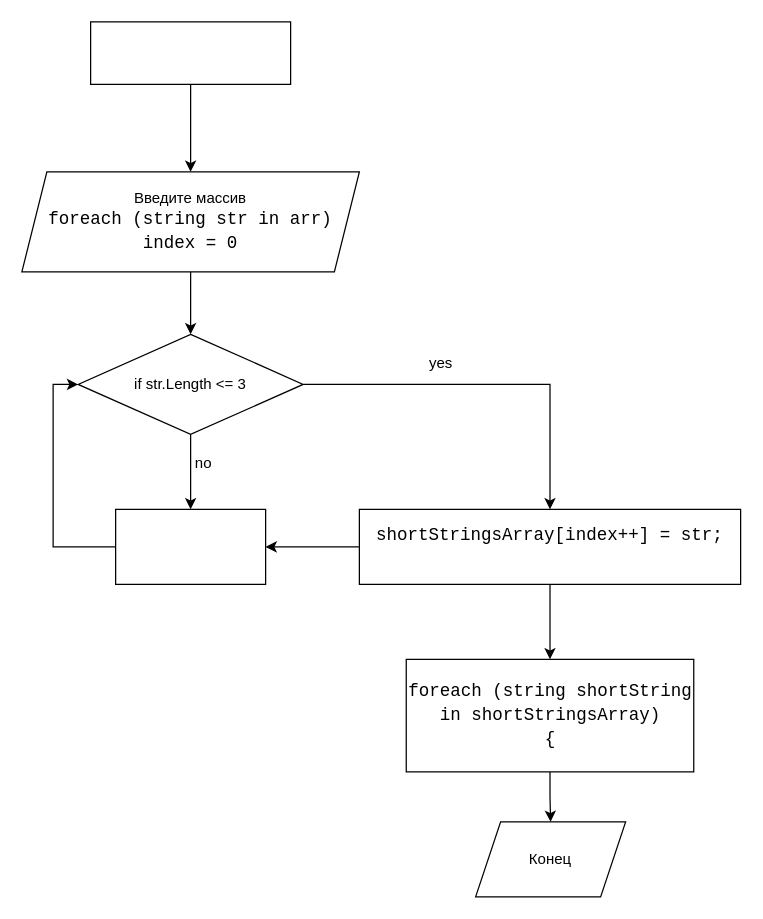
The diagram is 763 pixels wide and 919 high, and some of its shapes have lost their labels. The centre of each missing label's shape, as x and y in pixels:
"index++" belongs at pixel 190 546.
"Старт" belongs at pixel 190 52.
